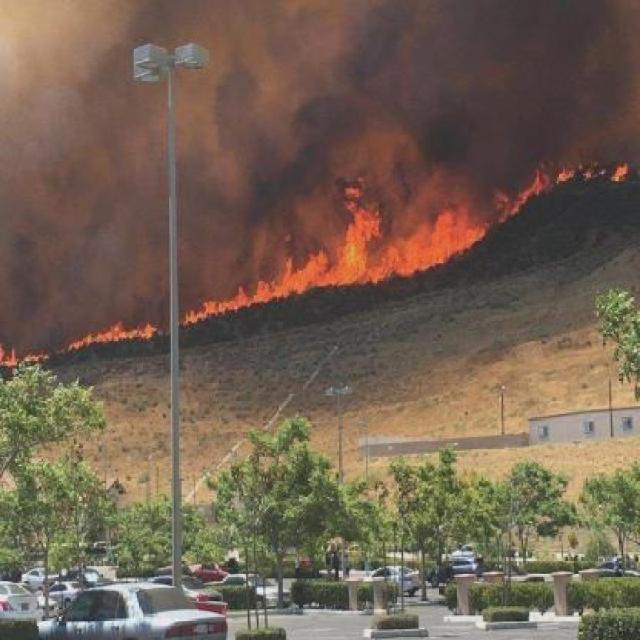Fire: (11, 150, 635, 388)
Smoke: (0, 0, 640, 358)
